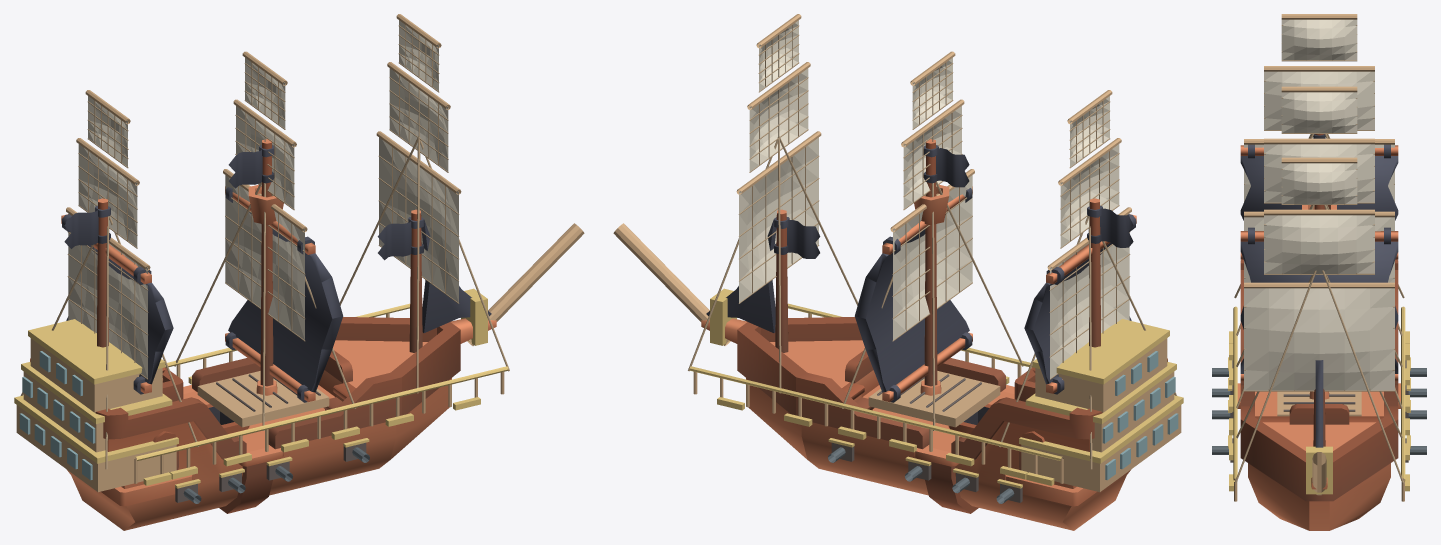
The model's file is manila_galleon-custom.glb.
3 renders of one model, left to right at view 1: azimuth 30°, elevation 25°; view 2: azimuth 150°, elevation 25°; view 3: azimuth 270°, elevation 25°, orthographic. The views are drawn at different scales.
Visible parts, largest first — view 1: manila_galleon-bespoke-components, ship-pirate-large, sail-a, flag-c (×3), sail-b; view 2: manila_galleon-bespoke-components, ship-pirate-large, sail-a, flag-c (×3), sail-b; view 3: manila_galleon-bespoke-components, ship-pirate-large, sail-a, sail-b.
Part boxes in pixels (left/top/right/bottom): manila_galleon-bespoke-components: left=14, top=14, right=584, bottom=503; ship-pirate-large: left=30, top=139, right=496, bottom=530; sail-a: left=225, top=186, right=343, bottom=402; flag-c (×3): left=64, top=145, right=423, bottom=260; sail-b: left=61, top=214, right=173, bottom=394; manila_galleon-bespoke-components: left=613, top=14, right=1183, bottom=503; ship-pirate-large: left=701, top=139, right=1167, bottom=530; sail-a: left=854, top=186, right=972, bottom=402; flag-c (×3): left=774, top=145, right=1133, bottom=258; sail-b: left=1024, top=214, right=1136, bottom=394; manila_galleon-bespoke-components: left=1212, top=14, right=1426, bottom=501; ship-pirate-large: left=1237, top=134, right=1400, bottom=530; sail-a: left=1240, top=227, right=1398, bottom=381; sail-b: left=1240, top=144, right=1398, bottom=259.
Size of the model in its own units: 64.53 by 48.71 by 24.
8 materials, 1 textured.
